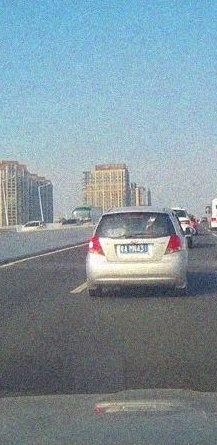L_light: (88, 235, 105, 255)
R_light: (164, 234, 183, 254)
T_light: (130, 212, 145, 215)
day-left: (87, 209, 185, 295)
